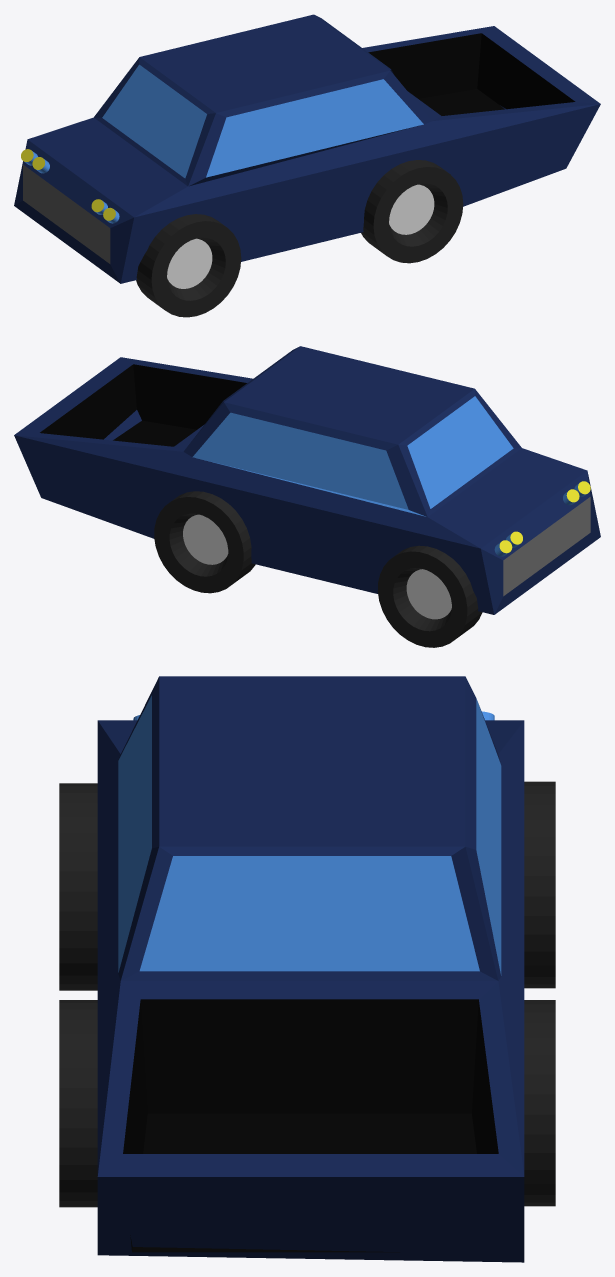
File: car2.fbx
3 renders of one model, top to bottom at view 1: azimuth 30°, elevation 25°; view 2: azimuth 150°, elevation 25°; view 3: azimuth 270°, elevation 25°, orthographic. The views are drawn at different scales.
Visible parts, largest first — view 1: Cube.003, wheel, wheel.002; view 2: Cube.003, wheel.004, wheel.003; view 3: Cube.003, wheel, wheel.002, wheel.004, wheel.003.
Part boxes in pixels (left/top/right/bottom): Cube.003: left=14, top=14, right=600, bottom=283; wheel: left=136, top=214, right=241, bottom=317; wheel.002: left=361, top=160, right=463, bottom=263; Cube.003: left=14, top=346, right=600, bottom=614; wheel.004: left=377, top=545, right=482, bottom=647; wheel.003: left=154, top=491, right=255, bottom=593; Cube.003: left=97, top=676, right=524, bottom=1262; wheel: left=59, top=783, right=97, bottom=990; wheel.002: left=59, top=1000, right=97, bottom=1207; wheel.004: left=524, top=781, right=555, bottom=988; wheel.003: left=524, top=1000, right=555, bottom=1206.
Bounding box in the file's own units: 1702 × 585 × 756.
